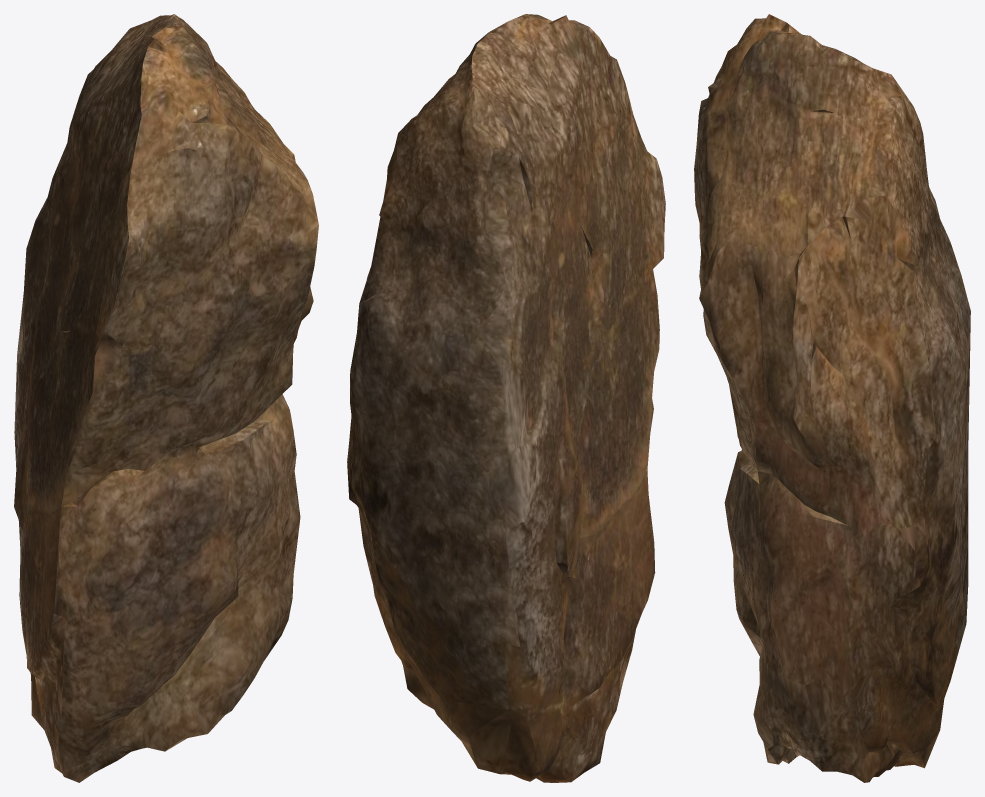
The model's file is standing_stone_slender.glb.
The picture shows the model from 3 angles, left to right: view 1: azimuth 30°, elevation 25°; view 2: azimuth 150°, elevation 25°; view 3: azimuth 270°, elevation 25°; orthographic projection. The views are drawn at different scales.
Parts seen in each view (by area): view 1: standing_stone_slender; view 2: standing_stone_slender; view 3: standing_stone_slender.
Part boxes in pixels (x1,y1,x2,y2): standing_stone_slender: [14, 14, 318, 782]; standing_stone_slender: [347, 14, 665, 782]; standing_stone_slender: [694, 14, 970, 782].
Bounding box in the file's own units: 1.7 × 4.59 × 1.49.
Materials: 1 (1 with a texture image).
